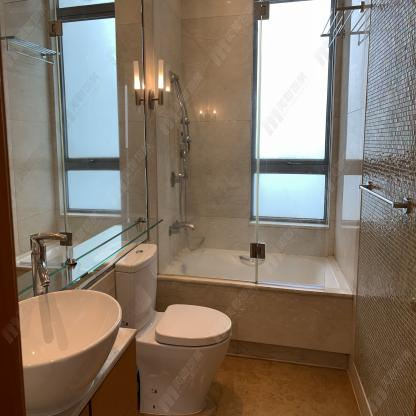Bathtub: (157, 245, 354, 369)
Faucet: (26, 228, 67, 297)
Toilet: (114, 242, 233, 412)
Toilet Sink: (19, 289, 122, 414)
